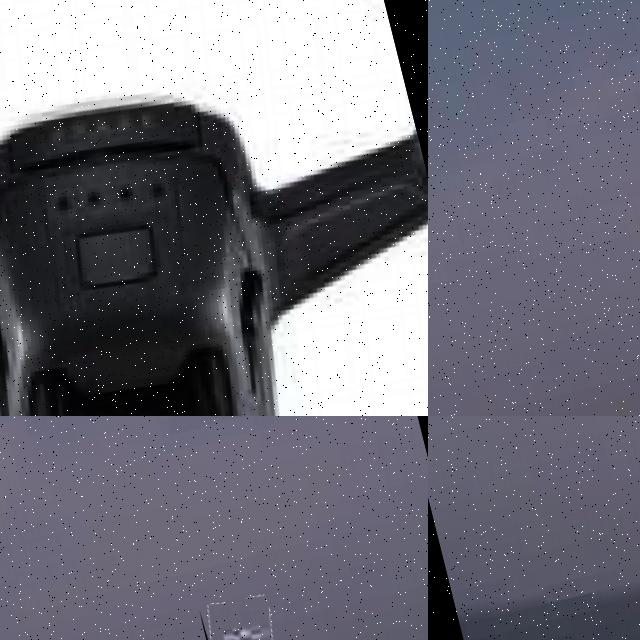0: (199, 593, 281, 640)
drone: (0, 0, 428, 416)
